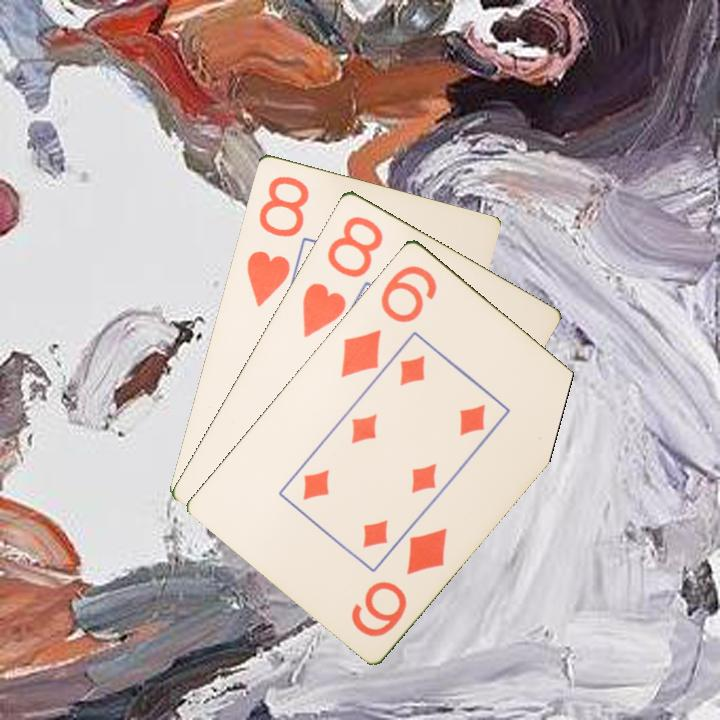6d: (336, 261, 440, 381), (347, 523, 451, 640)
8h: (298, 211, 386, 340), (243, 172, 312, 310)
